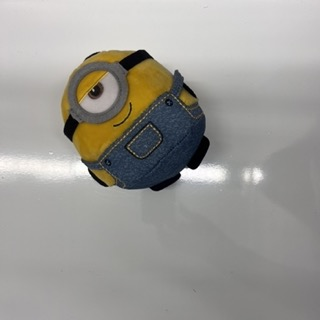minion: (60, 48, 210, 192)
